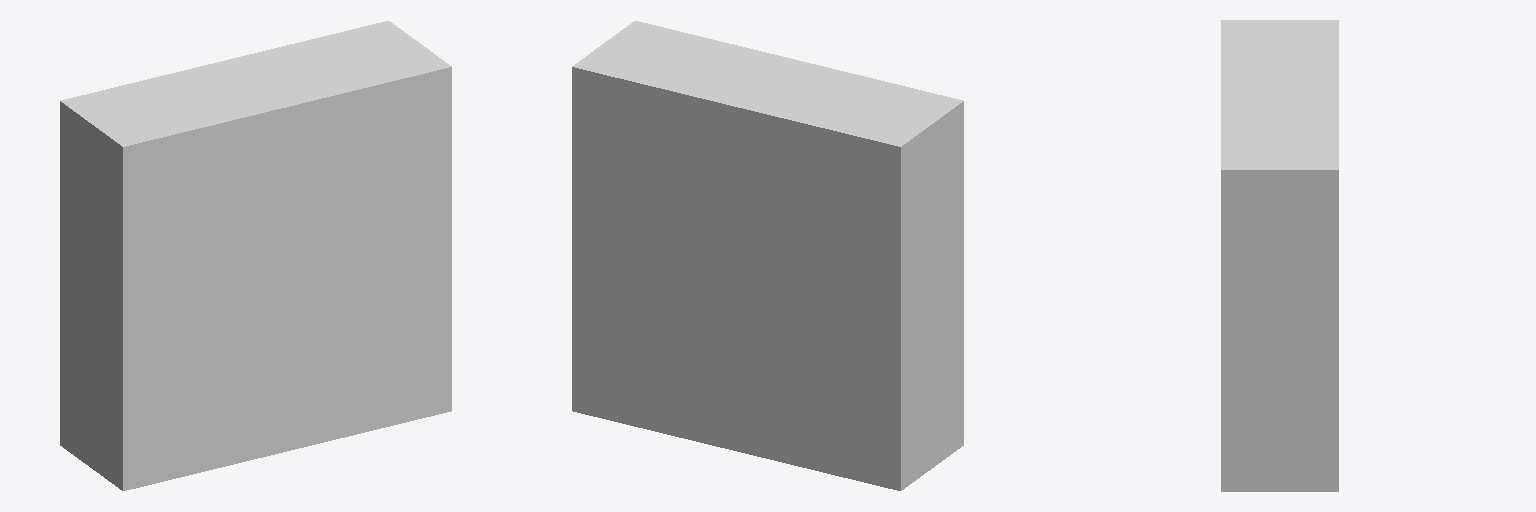
URDF robot description (simple_cube):
<?xml version="1.0"?>
<robot name="simple_cube">

  <!-- Link definition for the cube -->
  <link name="cube">
    <visual>
      <geometry>
        <box size=".3 .1 .3"/>
      </geometry>
      <material name="color">
        <color rgba="0.9 0.9 0.9 1"/>
      </material>
    </visual>

    <collision>
      <geometry>
        <box size=".3 .1 .3"/>
      </geometry>
    </collision>

    <inertial>
      <mass value="1.0"/>
      <inertia ixx="0.166" ixy="0" ixz="0" iyy="0.166" iyz="0" izz="0.166"/>
    </inertial>
  </link>

</robot>

--- Facts derived from the render (not from the file) ---
3 views of the same robot in one strip: view 1: azimuth 30°, elevation 25°; view 2: azimuth 150°, elevation 25°; view 3: azimuth 270°, elevation 25° (orthographic).
Robot: simple_cube — 1 links, 0 joints (none); root link cube; default pose: all joints at 0.
Links seen in each view (by area): view 1: cube; view 2: cube; view 3: cube.
Link boxes in pixels (x1=…): cube: x1=60, y1=21, x2=451, y2=490; cube: x1=572, y1=21, x2=963, y2=490; cube: x1=1221, y1=20, x2=1338, y2=491.
Bounding box of the posed robot: 0.3 × 0.1 × 0.3 m (x, y, z).
Geometry: primitives only (box / cylinder / sphere), no mesh files.
